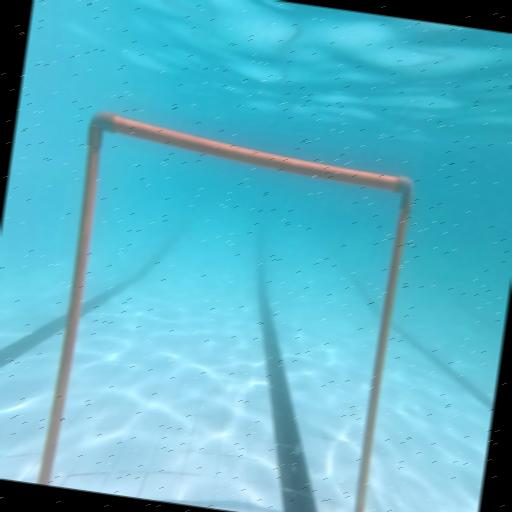gate: (38, 111, 416, 512)
